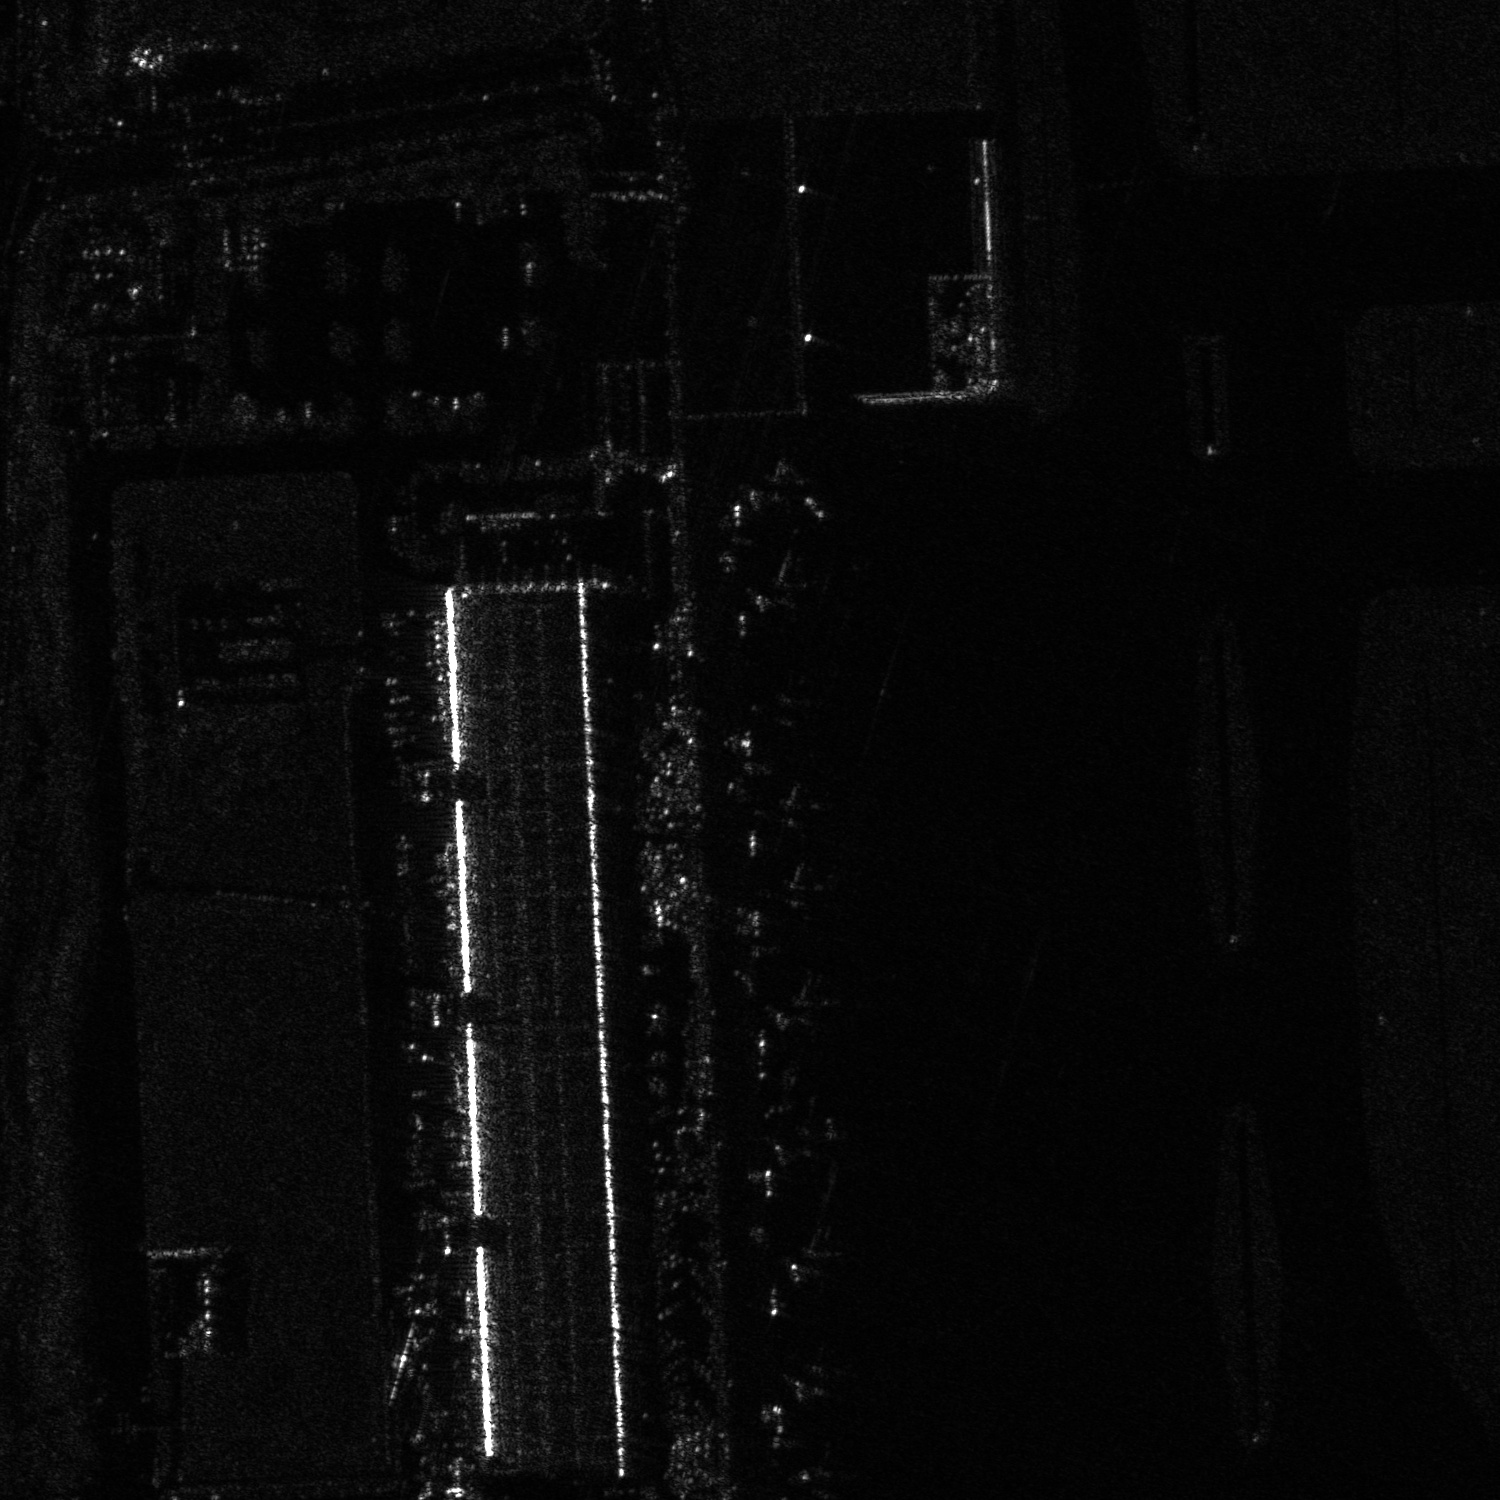A220: (773, 1096, 853, 1168), (766, 970, 842, 1038)
A320/321: (755, 854, 835, 918), (751, 544, 819, 615), (751, 776, 827, 835)
other: (775, 1221, 854, 1294), (772, 1353, 841, 1411)
